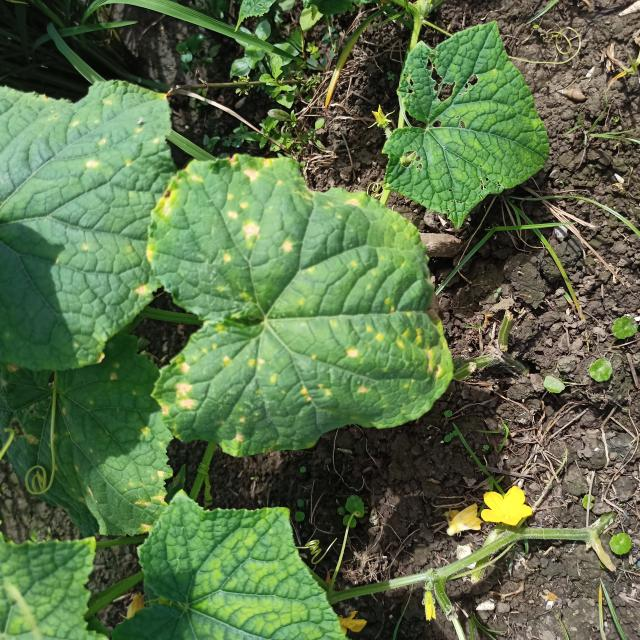disease_cucumber: (151, 156, 443, 441), (6, 367, 174, 520), (60, 94, 167, 177)
